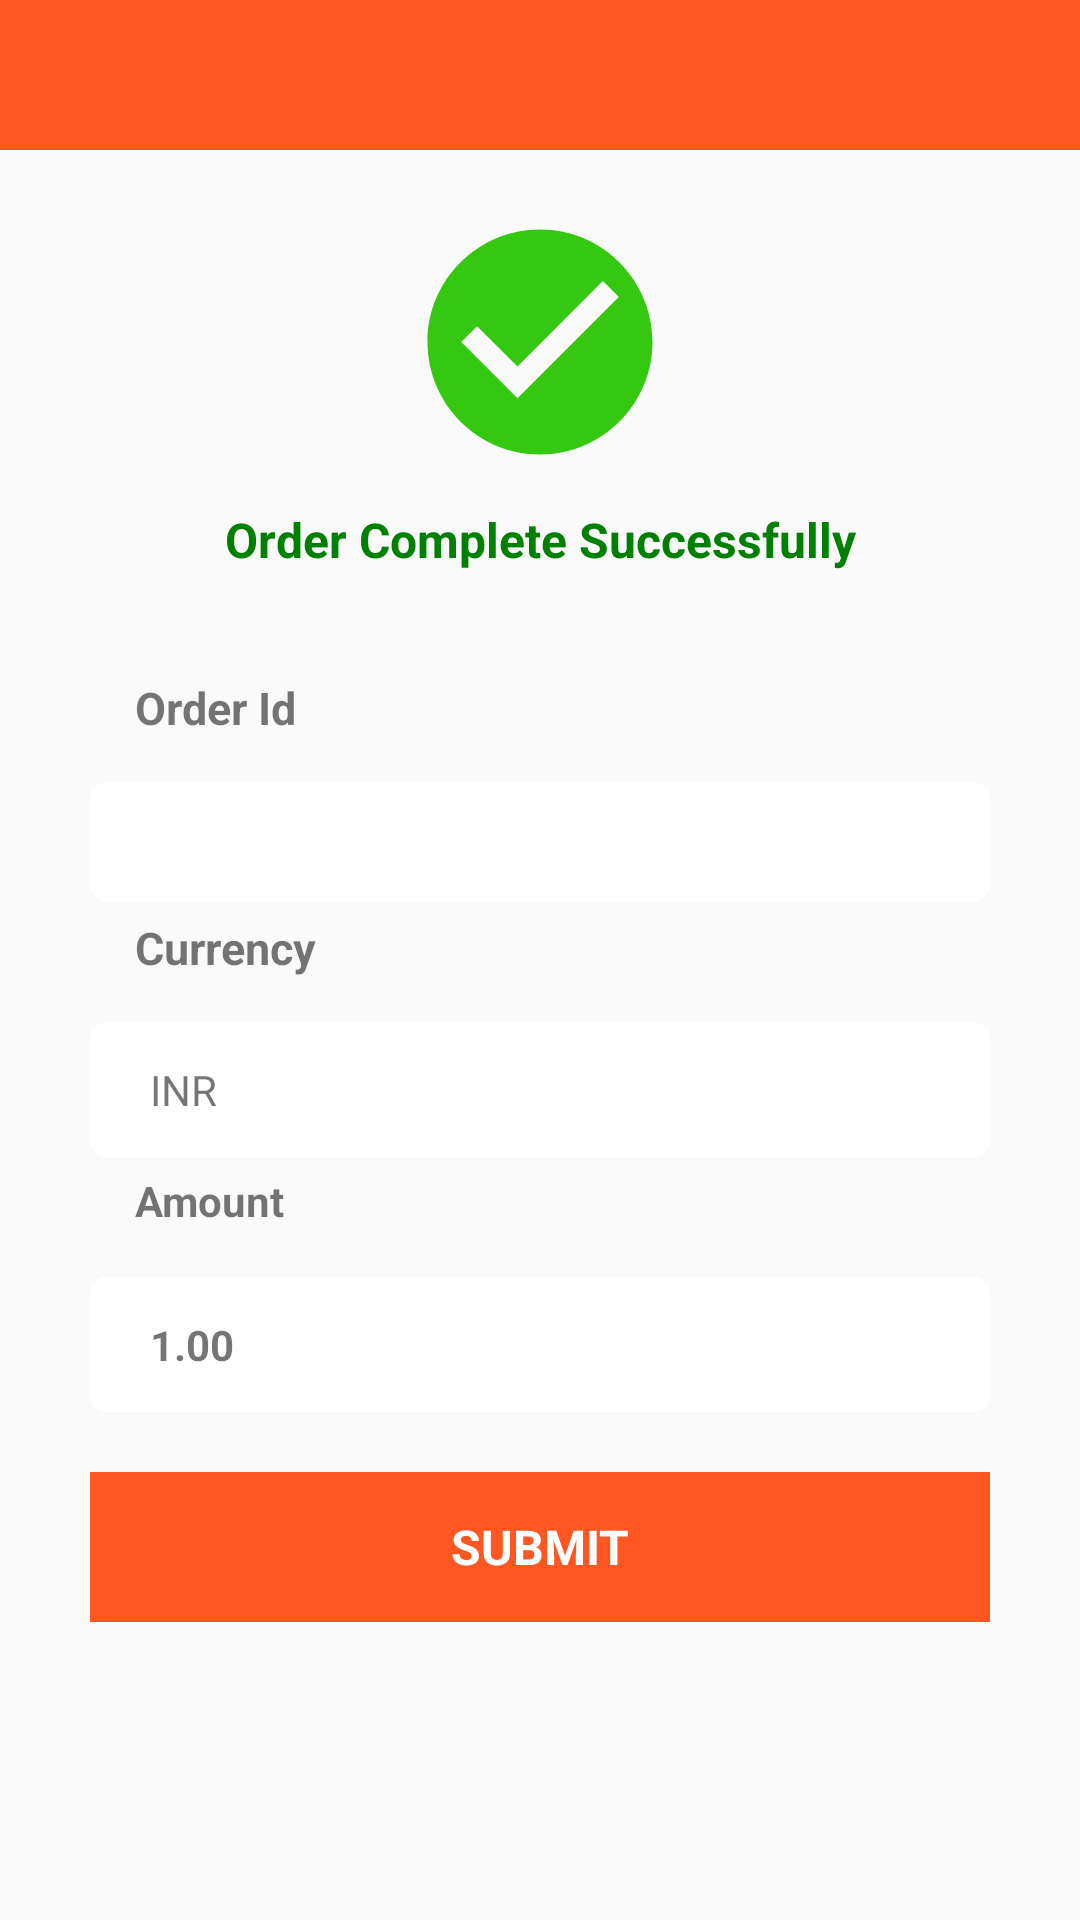

Icon click points for this 1080x1920 phone screenshot, format (x,y):
check: (540,342)
